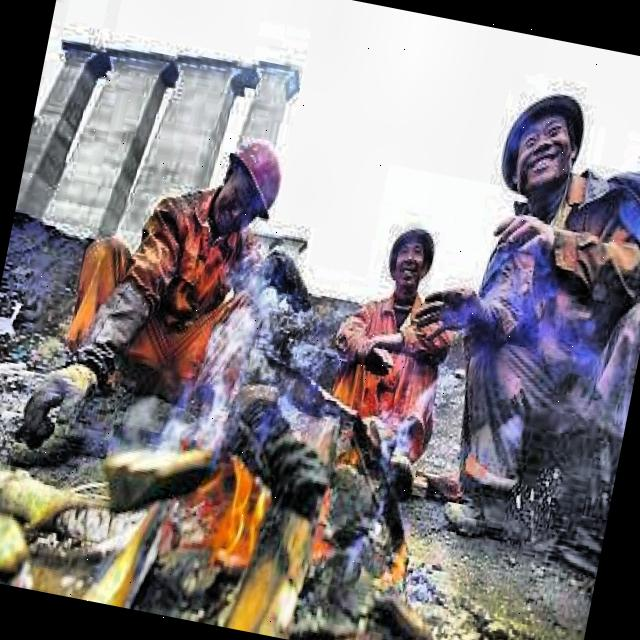helmet: (482, 61, 598, 236), (206, 127, 290, 239), (383, 217, 442, 304)
